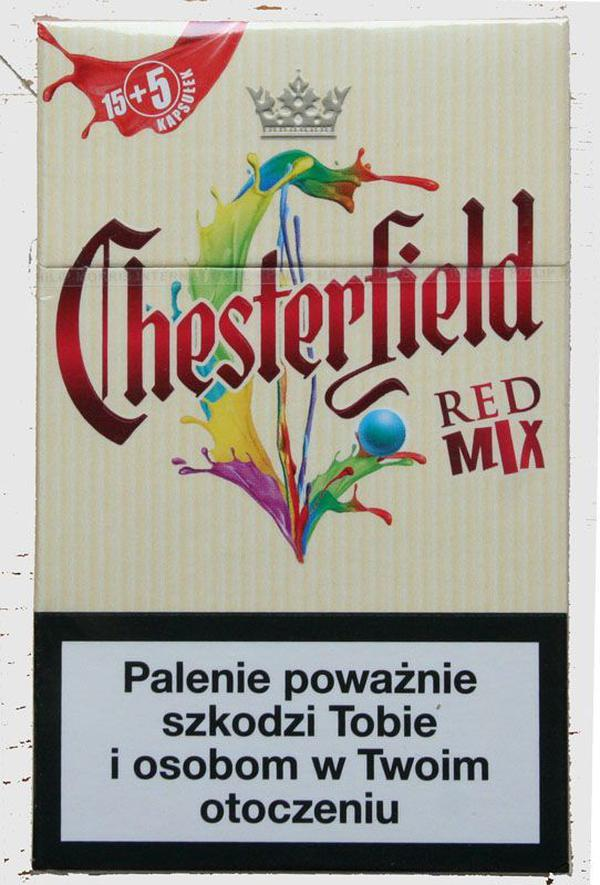chesterfield_red: (30, 23, 566, 870)
